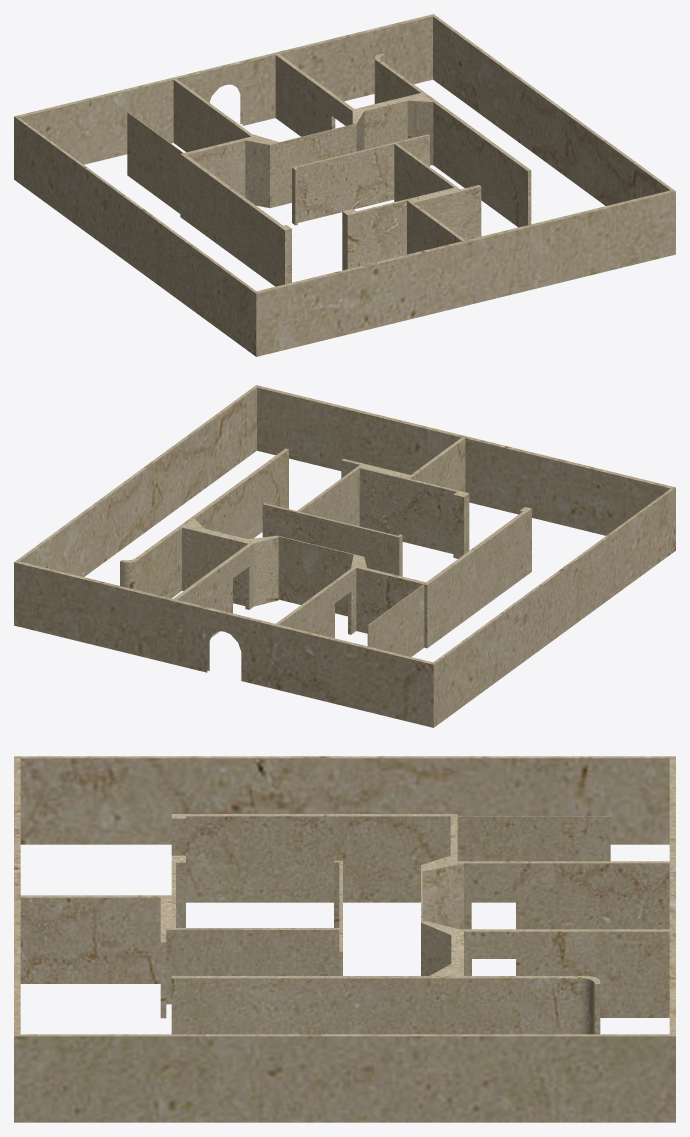
3 views of the same model, one above another, from view 1: azimuth 30°, elevation 25°; view 2: azimuth 150°, elevation 25°; view 3: azimuth 270°, elevation 25° (orthographic). The views are drawn at different scales.
Parts seen in each view (by area): view 1: a:Qiang1_1polysurface20, polySurface3634; view 2: a:Qiang1_1polysurface20, polySurface3634; view 3: polySurface3634, a:Qiang1_1polysurface20.
Part boxes in pixels (x1,y1,x2,y2): a:Qiang1_1polysurface20: [14, 14, 675, 356]; polySurface3634: [127, 53, 531, 305]; a:Qiang1_1polysurface20: [14, 385, 675, 727]; polySurface3634: [120, 436, 531, 656]; polySurface3634: [20, 814, 669, 1034]; a:Qiang1_1polysurface20: [14, 756, 675, 1122].
Size of the model in its own units: 8500 by 1223 by 8500.
1 material, 1 textured.
